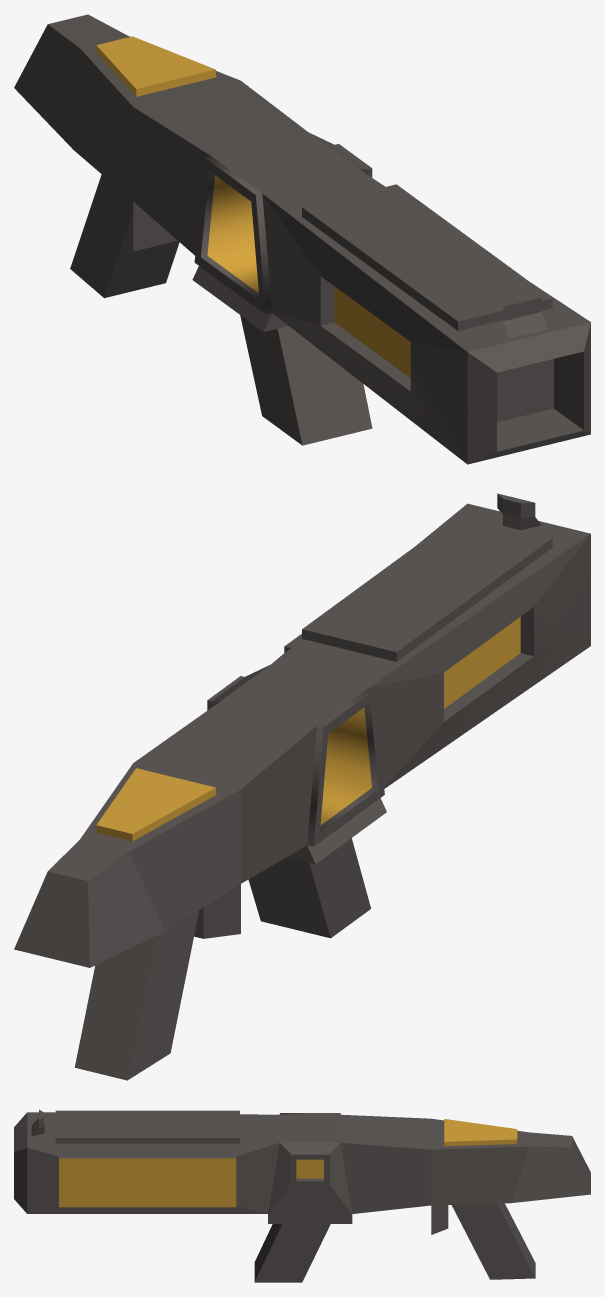
The model's file is AssaultRifle.fbx.
3 views of the same model, one above another, from view 1: azimuth 30°, elevation 25°; view 2: azimuth 150°, elevation 25°; view 3: azimuth 270°, elevation 25° (orthographic). The views are drawn at different scales.
Parts seen in each view (by area): view 1: Cube; view 2: Cube; view 3: Cube.
Boxes of the visible parts, <box> form: Cube: <box>14,14,590,464</box>; Cube: <box>14,493,590,1080</box>; Cube: <box>14,1109,590,1282</box>.
Bounding box in the file's own units: 210 × 415 × 1371.
